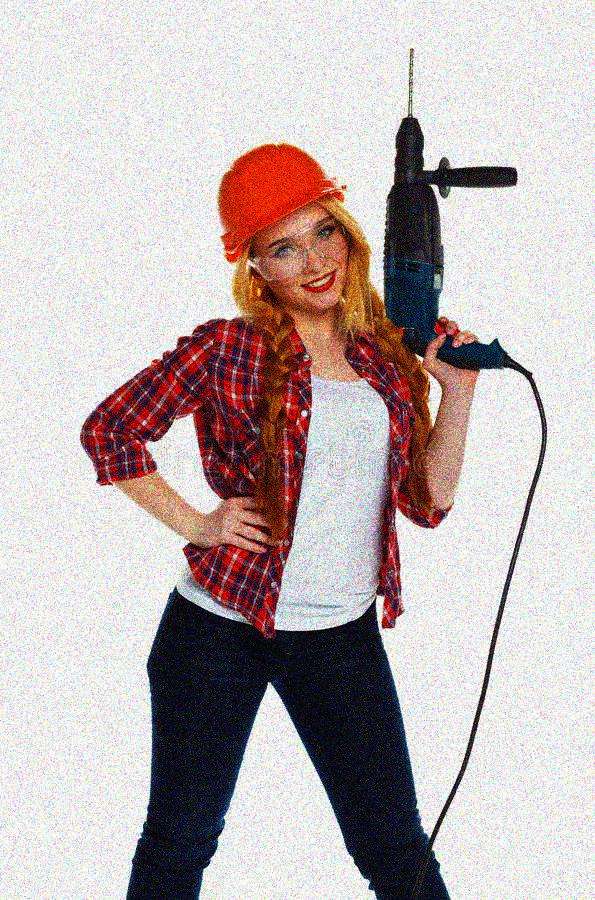helmet: (216, 138, 355, 319)
